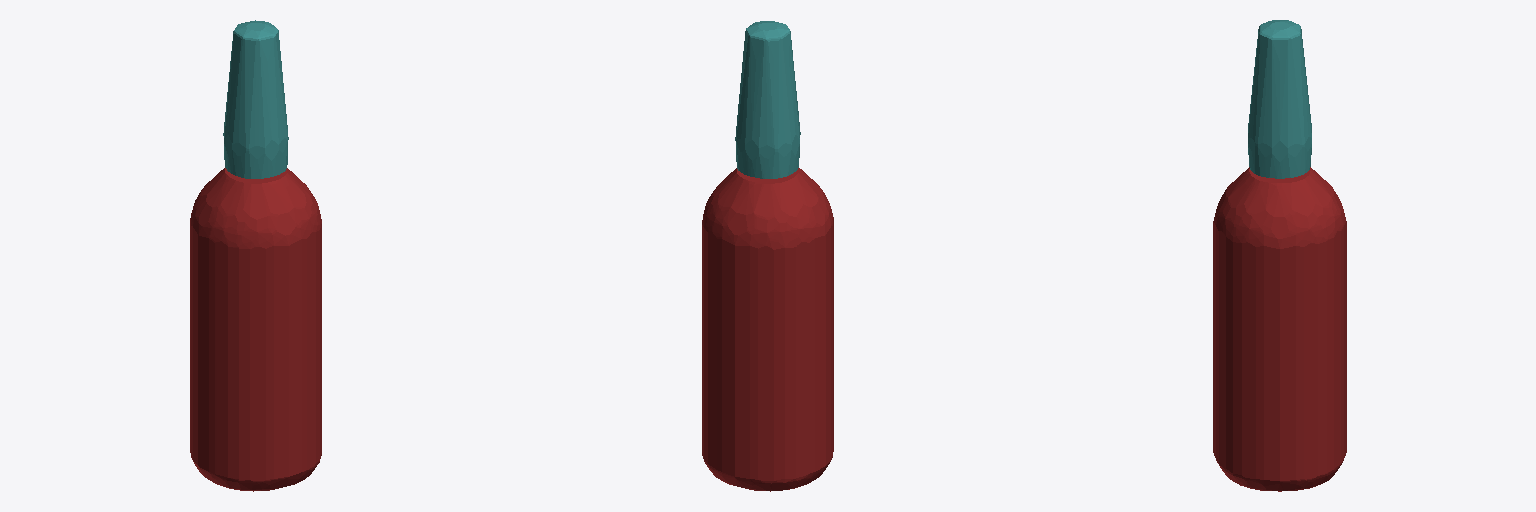
robot.urdf — root:
<robot name="root">
  <link name="bottle_body">
    <inertial>
      <origin xyz="0 0 0" rpy="0 0 0"/>
    </inertial>
    <mass value="1.00E-02"/>
    <visual>
      <origin xyz="0 0 0" rpy="0 0 0"/>
      <geometry>
        <mesh filename="core-bottle-56c23ba1699f6294435b5a0263ddd2e2-coacd_convex_piece_1.obj" scale="1.0000E-01 1.0000E-01 1.0000E-01"/>
      </geometry>
      <material name="">
        <color rgba="6.00E-01 2.00E-01 2.00E-01 1"/>
      </material>
    </visual>
    <collision>
      <origin xyz="0 0 0" rpy="0 0 0"/>
      <geometry>
        <mesh filename="core-bottle-56c23ba1699f6294435b5a0263ddd2e2-coacd_convex_piece_1.obj" scale="1.0000E-01 1.0000E-01 1.0000E-01"/>
      </geometry>
    </collision>
  </link>
  <link name="bottle_cap">
    <origin xyz="0 0 0.002" rpy="0 0 0"/>
    <mass value="1.00E-02"/>
    <visual>
      <origin xyz="0 0 0.002" rpy="0 0 0"/>
      <geometry>
        <mesh filename="core-bottle-56c23ba1699f6294435b5a0263ddd2e2-coacd_convex_piece_0.obj" scale="1.0000E-01 1.0000E-01 1.0000E-01"/>
      </geometry>
      <material name="">
        <color rgba="3.00E-01 6.00E-01 6.00E-01 1"/>
      </material>
    </visual>
    <collision>
      <origin xyz="0 0 0.002" rpy="0 0 0"/>
      <geometry>
        <mesh filename="core-bottle-56c23ba1699f6294435b5a0263ddd2e2-coacd_convex_piece_0.obj" scale="1.0000E-01 1.0000E-01 1.0000E-01"/>
      </geometry>
    </collision>
  </link>
  <joint name="bottle_cap_joint" type="revolute">
    <origin xyz="0 0 0" rpy="0 0 0"/>
    <parent link="bottle_body"/>
    <child link="bottle_cap"/>
    <axis xyz="0 0 1"/>
    <limit lower="0.00" upper="6.28"/>
    <dynamics damping="0.05"/>
  </joint>
</robot>

--- Render facts (derived) ---
3 views of the same robot in one strip: view 1: azimuth 30°, elevation 25°; view 2: azimuth 150°, elevation 25°; view 3: azimuth 270°, elevation 25° (orthographic).
Robot: root — 2 links, 1 joints (1 revolute); root link bottle_body; default pose: every joint at zero.
Links seen in each view (by area): view 1: bottle_body, bottle_cap; view 2: bottle_body, bottle_cap; view 3: bottle_body, bottle_cap.
Link boxes in pixels (left/top/right/bottom): bottle_body: left=190, top=168, right=321, bottom=491; bottle_cap: left=223, top=20, right=288, bottom=178; bottle_body: left=702, top=168, right=833, bottom=491; bottle_cap: left=735, top=21, right=800, bottom=178; bottle_body: left=1213, top=167, right=1346, bottom=491; bottle_cap: left=1248, top=20, right=1311, bottom=178.
Bounding box of the posed robot: 0.0527 × 0.0527 × 0.1961 m (x, y, z).
2 mesh visuals loaded from 2 distinct referenced files (2 OBJ).